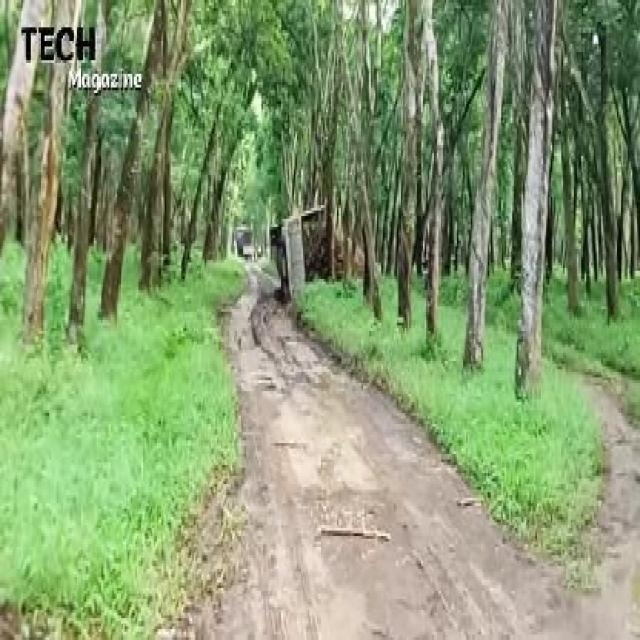accident: (261, 194, 354, 301)
